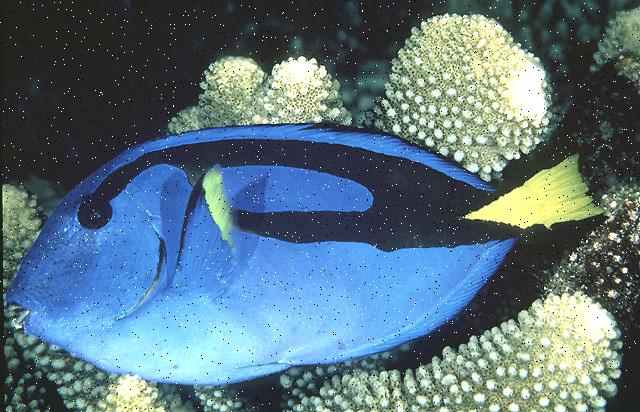Mulut: (0, 279, 66, 365)
Sirip Anal: (312, 228, 528, 374)
Sirip Dada: (146, 152, 262, 323)
Sirip Ekor: (490, 131, 618, 271)
Sirip Perut: (195, 344, 307, 404)
Sirip Punggung: (152, 116, 502, 196)
